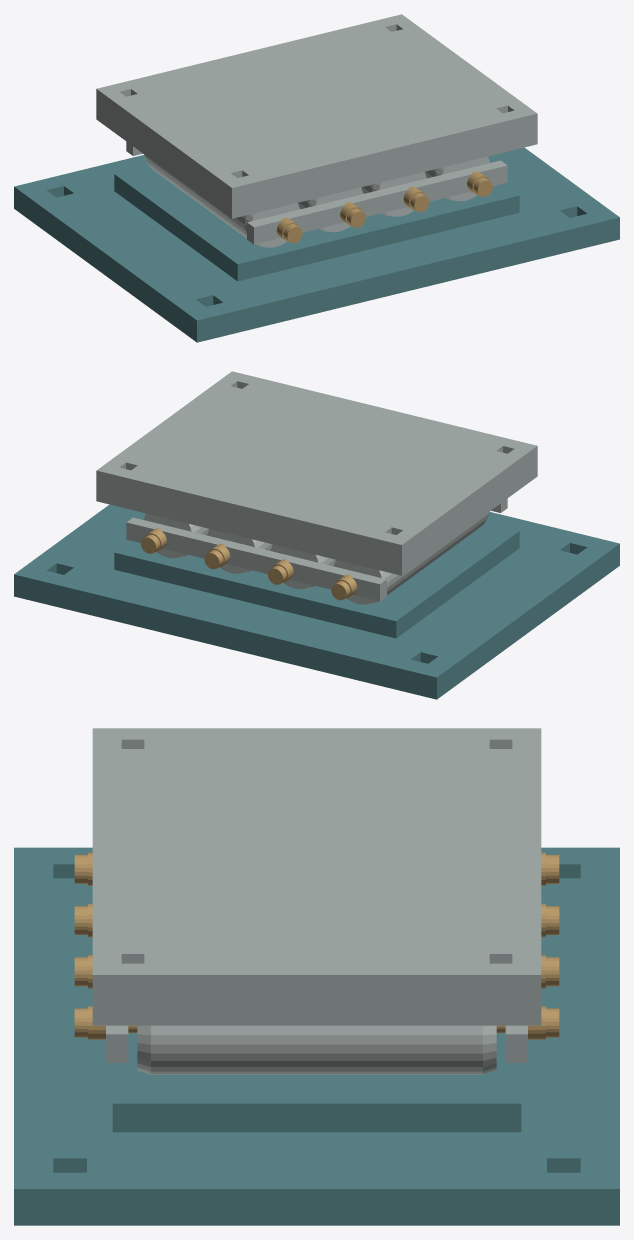
The picture shows the model from 3 angles, top to bottom: view 1: azimuth 30°, elevation 25°; view 2: azimuth 150°, elevation 25°; view 3: azimuth 270°, elevation 25°; orthographic projection. The views are drawn at different scales.
Parts seen in each view (by area): view 1: WholeFourOpeningUpperBearingShoe, WholeFourOpeningGroundPlate, WholeFixedLowerRollerTrack, WholeFourOpeningCageCheek-1, WholeTransverseBarrelRoller0, WholeTransverseBarrelRoller2, WholeTransverseBarrelRoller1, WholeTransverseBarrelRoller3, WholeThroughAxleAndTwinShoulders1, WholeThroughAxleAndTwinShoulders2, WholeThroughAxleAndTwinShoulders3, WholeThroughAxleAndTwinShoulders0; view 2: WholeFourOpeningUpperBearingShoe, WholeFourOpeningGroundPlate, WholeFixedLowerRollerTrack, WholeFourOpeningCageCheek1, WholeTransverseBarrelRoller0, WholeTransverseBarrelRoller2, WholeTransverseBarrelRoller1, WholeTransverseBarrelRoller3, WholeThroughAxleAndTwinShoulders1, WholeThroughAxleAndTwinShoulders2, WholeThroughAxleAndTwinShoulders3, WholeThroughAxleAndTwinShoulders0; view 3: WholeFourOpeningUpperBearingShoe, WholeFourOpeningGroundPlate, WholeFixedLowerRollerTrack, WholeTransverseBarrelRoller3, WholeThroughAxleAndTwinShoulders3, WholeThroughAxleAndTwinShoulders0, WholeThroughAxleAndTwinShoulders2, WholeThroughAxleAndTwinShoulders1, WholeFourOpeningCageCheek-1, WholeFourOpeningCageCheek1.
Boxes of the visible parts, <box> form: WholeFourOpeningUpperBearingShoe: <box>96,14,537,218</box>; WholeFourOpeningGroundPlate: <box>14,147,619,342</box>; WholeFixedLowerRollerTrack: <box>114,165,519,281</box>; WholeFourOpeningCageCheek-1: <box>247,160,507,244</box>; WholeTransverseBarrelRoller0: <box>144,154,299,247</box>; WholeTransverseBarrelRoller2: <box>361,172,426,216</box>; WholeTransverseBarrelRoller1: <box>298,187,363,232</box>; WholeTransverseBarrelRoller3: <box>424,156,489,201</box>; WholeThroughAxleAndTwinShoulders1: <box>340,202,365,227</box>; WholeThroughAxleAndTwinShoulders2: <box>403,187,429,212</box>; WholeThroughAxleAndTwinShoulders3: <box>467,171,492,196</box>; WholeThroughAxleAndTwinShoulders0: <box>276,217,302,243</box>; WholeFourOpeningUpperBearingShoe: <box>96,371,537,575</box>; WholeFourOpeningGroundPlate: <box>14,504,619,699</box>; WholeFixedLowerRollerTrack: <box>114,522,519,638</box>; WholeFourOpeningCageCheek1: <box>126,517,386,601</box>; WholeTransverseBarrelRoller0: <box>334,511,489,604</box>; WholeTransverseBarrelRoller2: <box>207,529,272,573</box>; WholeTransverseBarrelRoller1: <box>270,544,335,589</box>; WholeTransverseBarrelRoller3: <box>144,513,209,558</box>; WholeThroughAxleAndTwinShoulders1: <box>268,559,293,584</box>; WholeThroughAxleAndTwinShoulders2: <box>204,544,230,569</box>; WholeThroughAxleAndTwinShoulders3: <box>141,528,166,553</box>; WholeThroughAxleAndTwinShoulders0: <box>331,574,357,600</box>; WholeFourOpeningUpperBearingShoe: <box>92,728,541,1025</box>; WholeFourOpeningGroundPlate: <box>14,847,619,1225</box>; WholeFixedLowerRollerTrack: <box>112,1033,521,1132</box>; WholeTransverseBarrelRoller3: <box>137,1025,496,1074</box>; WholeThroughAxleAndTwinShoulders3: <box>74,1006,559,1039</box>; WholeThroughAxleAndTwinShoulders0: <box>74,852,559,885</box>; WholeThroughAxleAndTwinShoulders2: <box>74,955,559,988</box>; WholeThroughAxleAndTwinShoulders1: <box>74,903,559,937</box>; WholeFourOpeningCageCheek-1: <box>106,1025,128,1062</box>; WholeFourOpeningCageCheek1: <box>505,1025,527,1062</box>.
Bounding box in the file's own units: 3.6 × 1 × 2.7.
